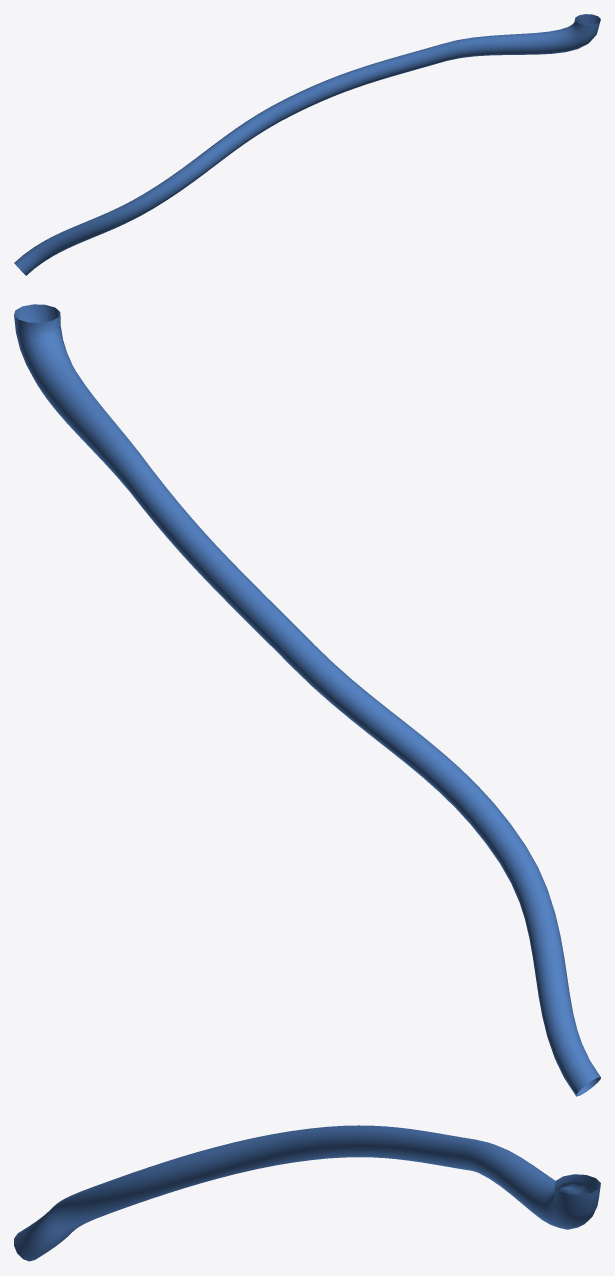
3 renders of one model, top to bottom at view 1: azimuth 30°, elevation 25°; view 2: azimuth 150°, elevation 25°; view 3: azimuth 330°, elevation 25°, orthographic. The views are drawn at different scales.
Parts seen in each view (by area): view 1: 右侧足底外侧静脉; view 2: 右侧足底外侧静脉; view 3: 右侧足底外侧静脉.
Boxes of the visible parts, x1,y1,x2,y2 form: 右侧足底外侧静脉: [14, 14, 600, 275]; 右侧足底外侧静脉: [14, 304, 600, 1096]; 右侧足底外侧静脉: [14, 1125, 600, 1261].
Size of the model in its own units: 0.0585 by 0.0297 by 0.0309.
